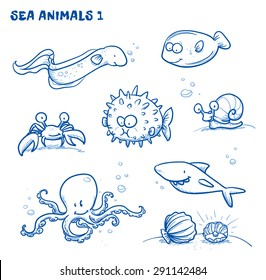animal: (23, 164, 144, 238), (156, 158, 249, 209), (22, 114, 90, 153), (192, 92, 250, 132)
fish: (11, 41, 133, 86), (97, 80, 171, 145), (159, 27, 242, 68)
